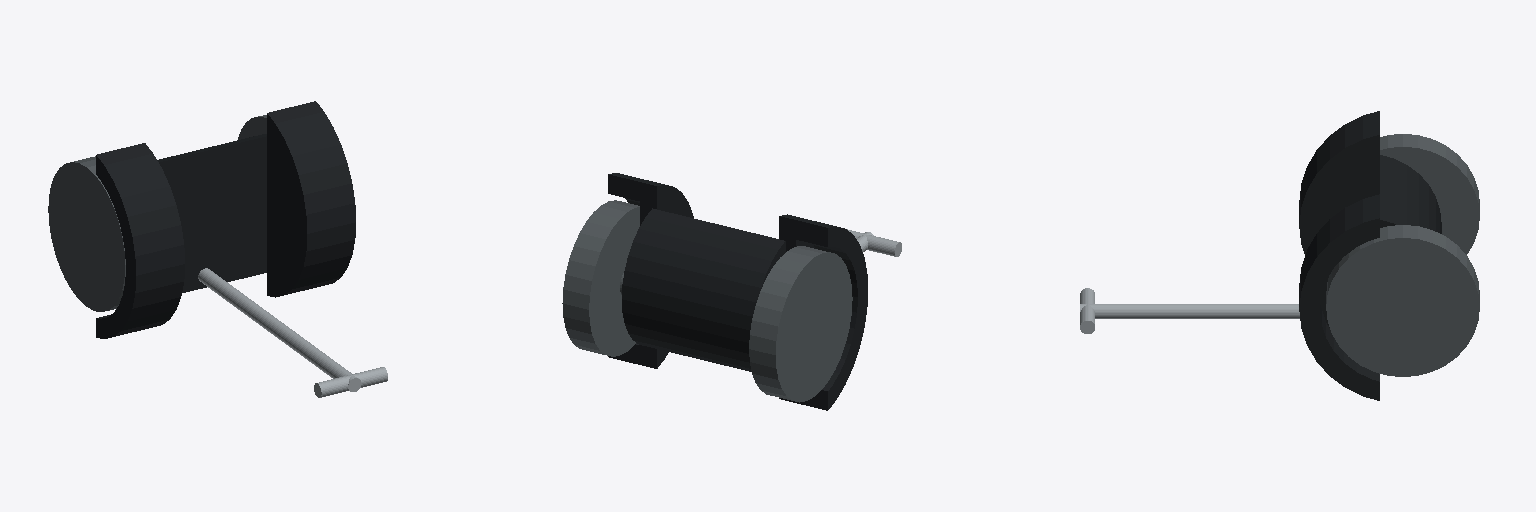
Rendered from tinker.obj.
The picture shows the model from 3 angles: view 1: azimuth 30°, elevation 25°; view 2: azimuth 150°, elevation 25°; view 3: azimuth 270°, elevation 25°; orthographic projection.
Parts seen in each view (by area): view 1: obj_0; view 2: obj_0; view 3: obj_0.
Part boxes in pixels (x1,y1,x2,y2): obj_0: (48,101,387,397); obj_0: (562,173,901,410); obj_0: (1080,111,1479,400).
Size of the model in its own units: 33.02 by 26.26 by 52.